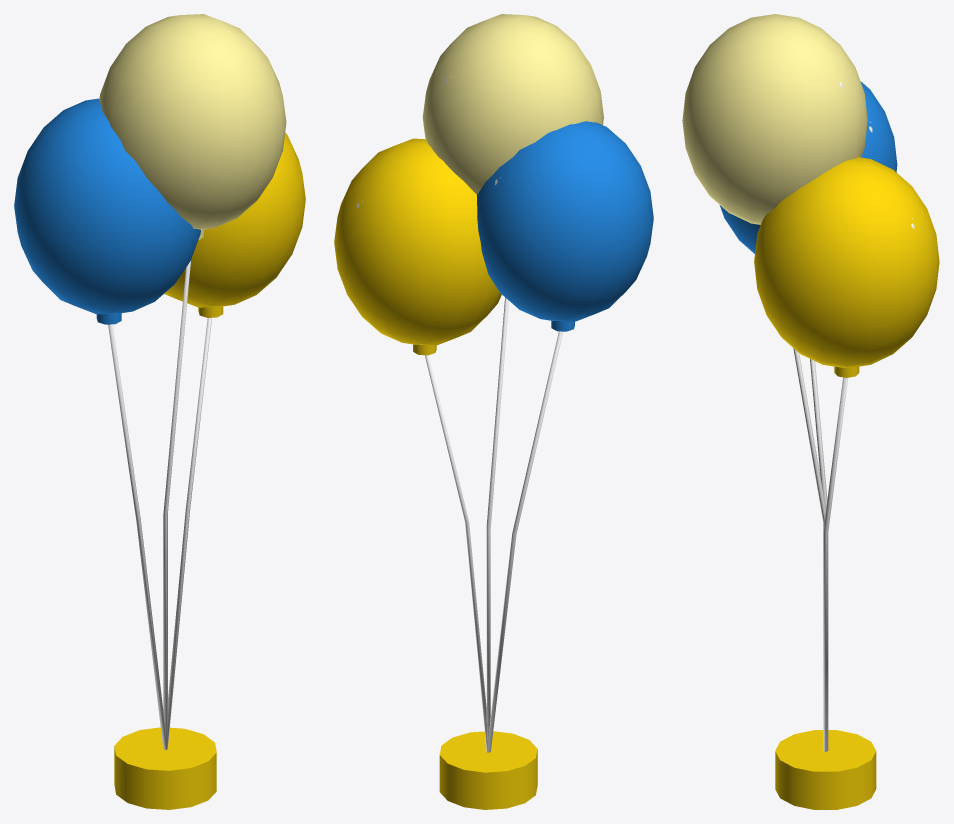
The model's file is balloons_grad.fbx.
3 views of the same model, side by side, from view 1: azimuth 30°, elevation 25°; view 2: azimuth 150°, elevation 25°; view 3: azimuth 270°, elevation 25° (orthographic). The views are drawn at different scales.
Parts seen in each view (by area): view 1: Graduation Balloons; view 2: Graduation Balloons; view 3: Graduation Balloons.
Boxes of the visible parts, left/top/right/bottom form: Graduation Balloons: left=14, top=14, right=305, bottom=809; Graduation Balloons: left=334, top=14, right=653, bottom=809; Graduation Balloons: left=682, top=14, right=939, bottom=809.
Size of the model in its own units: 0.77 by 2.01 by 0.61.
